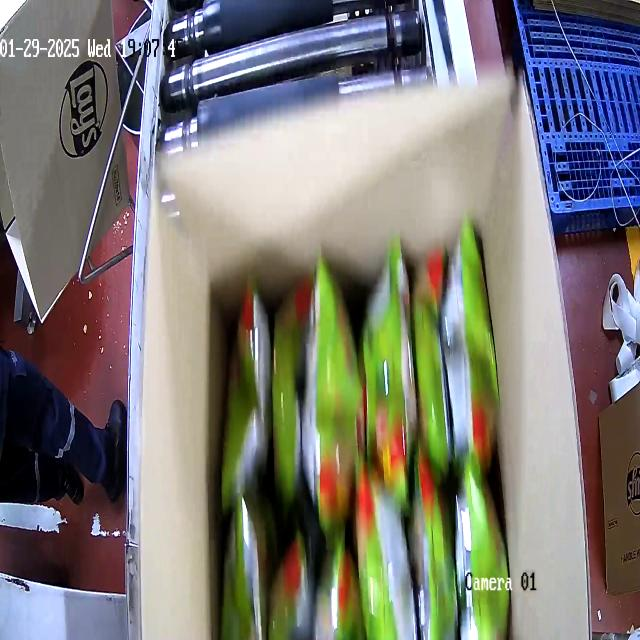YOGURT_HERB: (218, 218, 512, 638)
